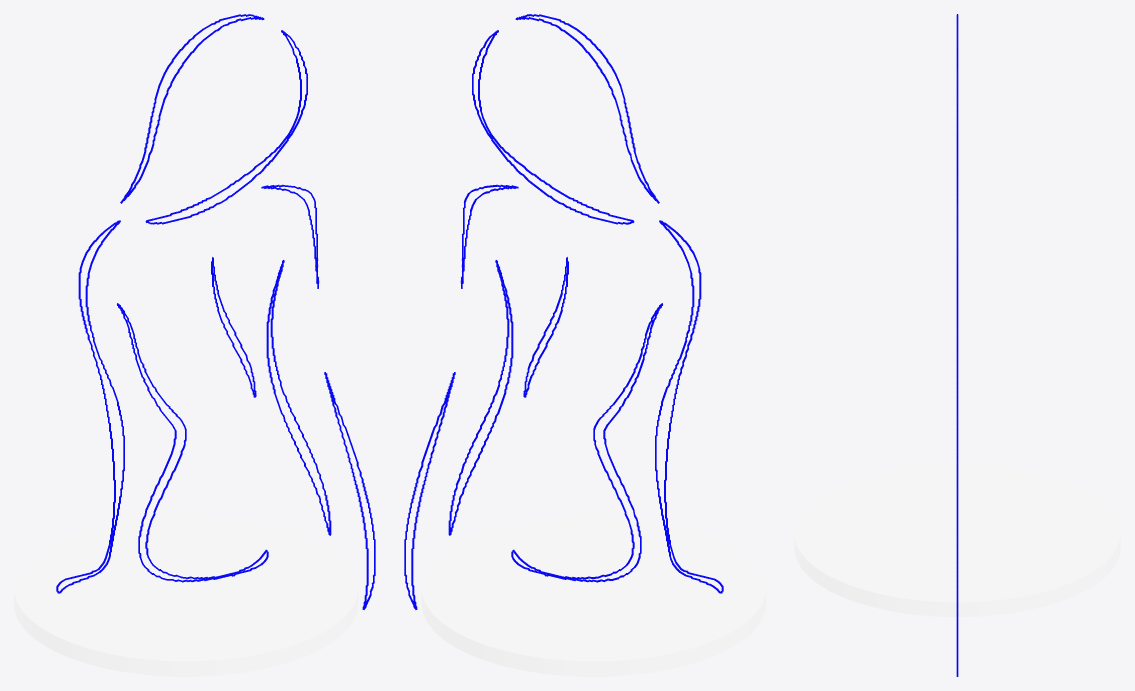
3 renders of one model, left to right at view 1: azimuth 30°, elevation 25°; view 2: azimuth 150°, elevation 25°; view 3: azimuth 270°, elevation 25°, orthographic. The views are drawn at different scales.
Size of the model in its own units: 0.5675 by 1 by 0.5.
